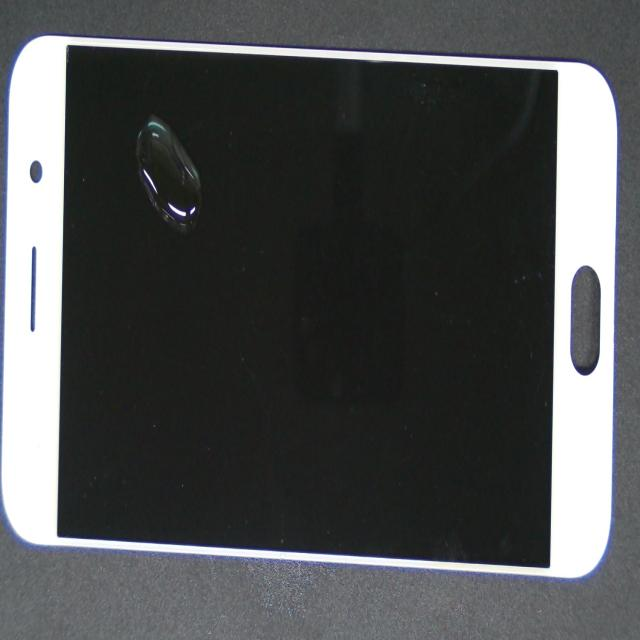oil: (105, 104, 238, 251)
